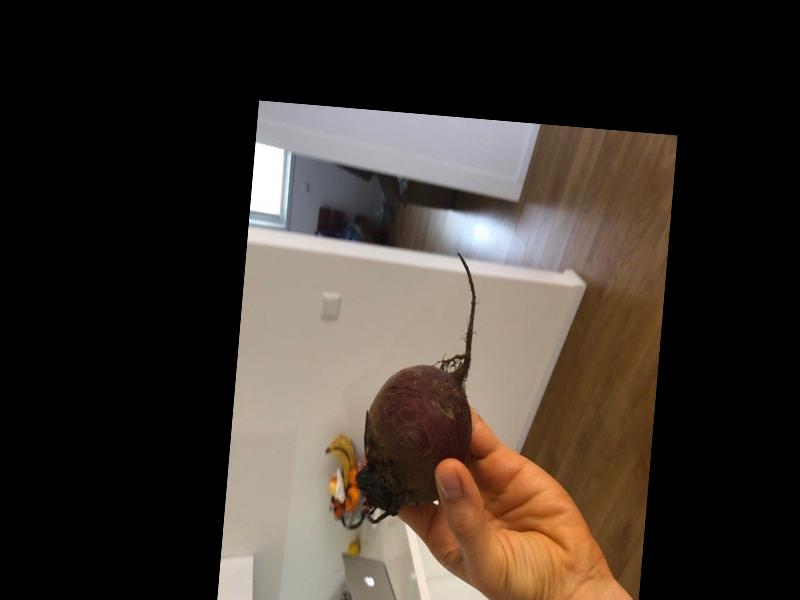Beet: (353, 245, 485, 529)
